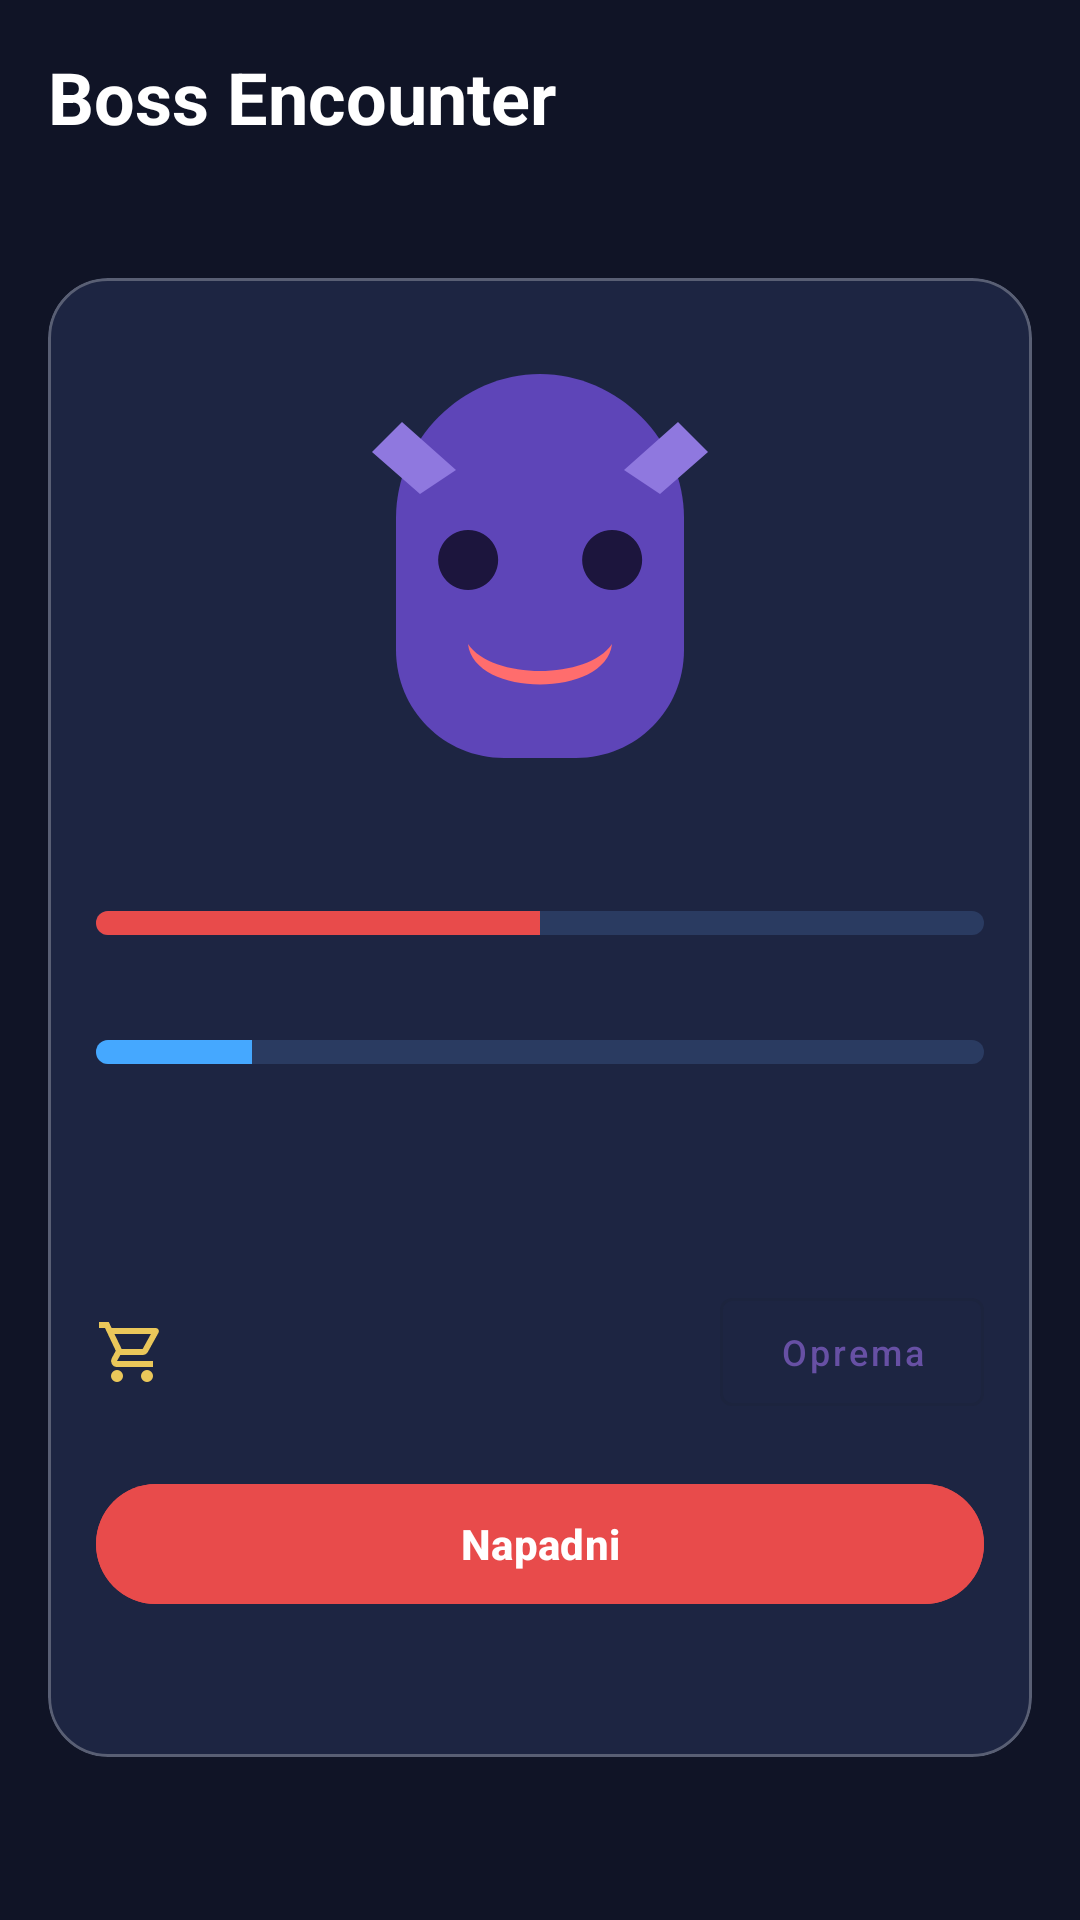

Icon bounding boxes for this 1080px×1920px phone screenshot, format (x1, y1, x2, y2):
shop: (99, 1322, 159, 1382)
